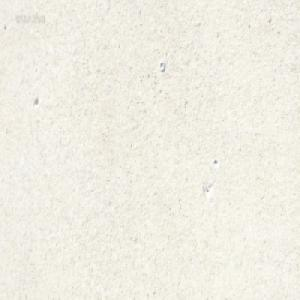Washer: (159, 60, 165, 71)
